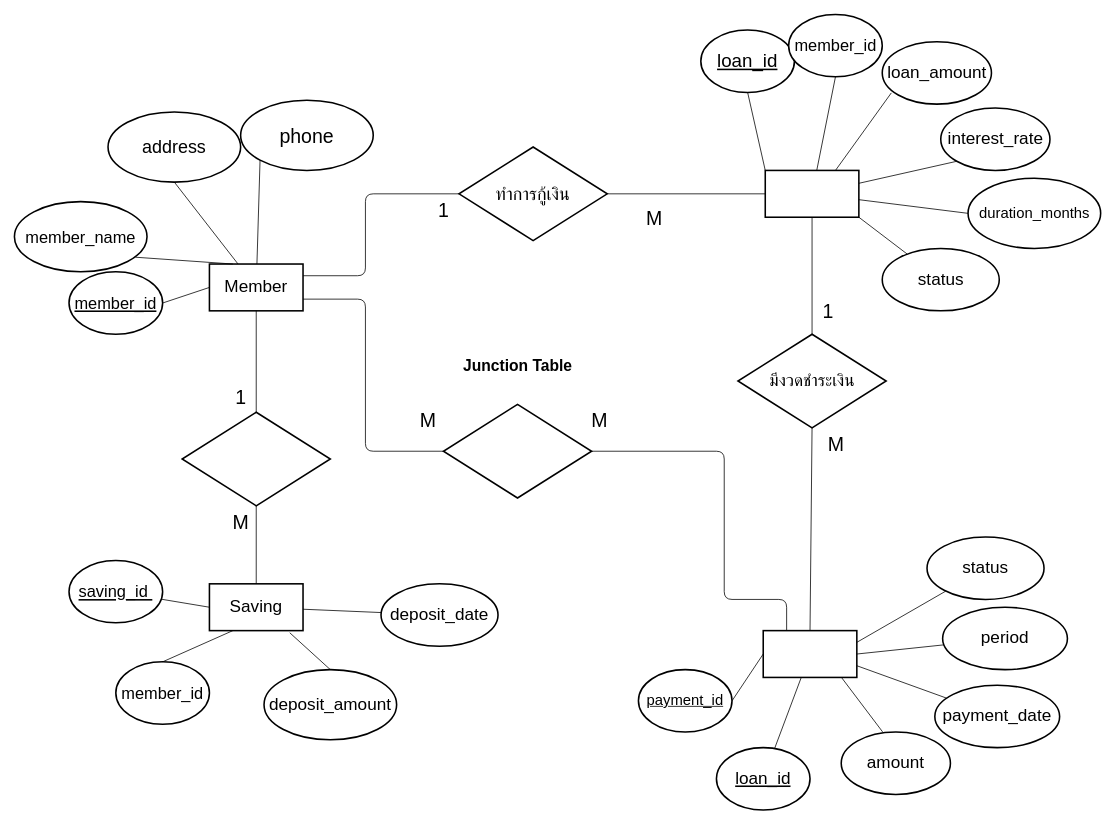
Image size: 1115x824. Some labels were removed from this diagram. The shapes that lost their labels are listed below. From the top down, each one's centre as x and y in pixels, then its label:
At point 811,193: "Loan".
At point 256,458: "มีรายฝากเงิน สัจจะ".
At point 517,450: "ชำระเงิน".
At point 809,653: "Payment".
